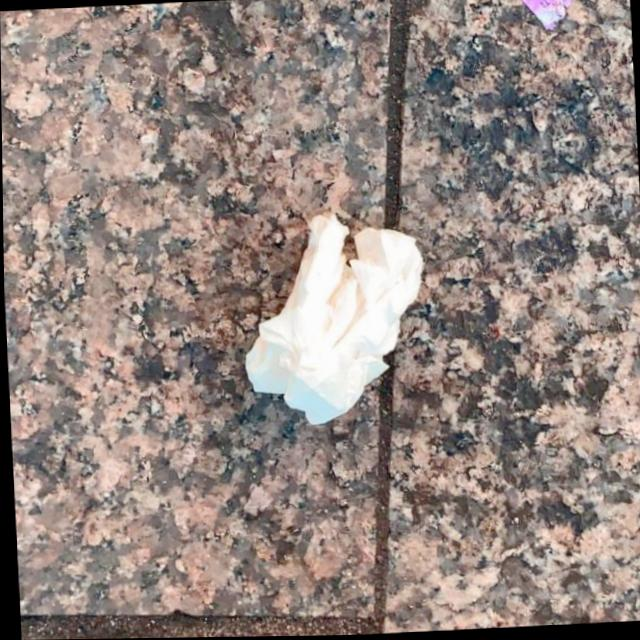Paper: (234, 208, 430, 430)
